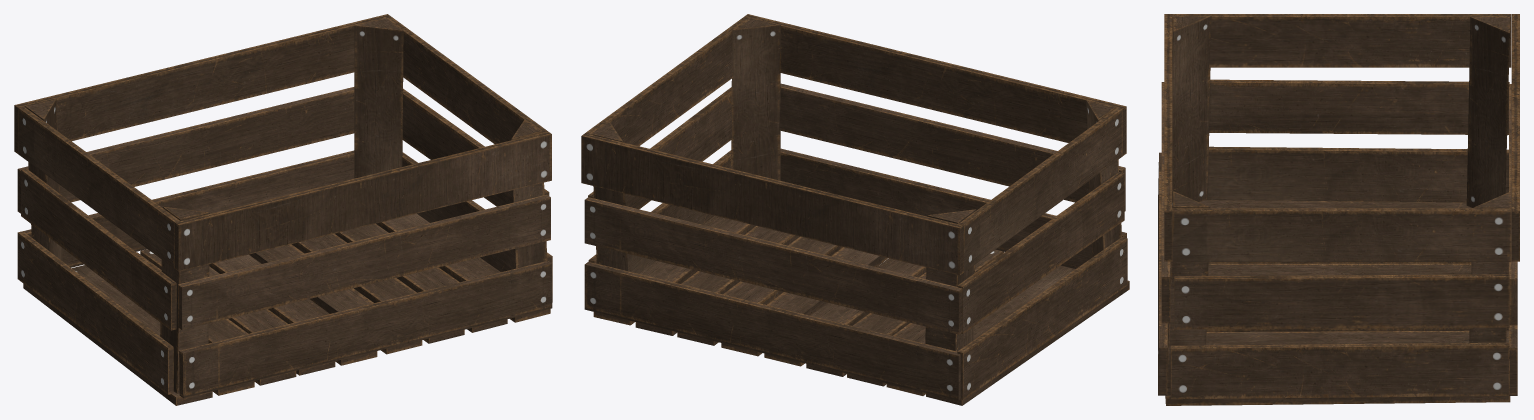
Rendered from wooden_crate_1.gltf.
3 views of the same model, side by side, from view 1: azimuth 30°, elevation 25°; view 2: azimuth 150°, elevation 25°; view 3: azimuth 270°, elevation 25° (orthographic). The views are drawn at different scales.
Visible parts, largest first — view 1: Box_02; view 2: Box_02; view 3: Box_02.
Boxes of the visible parts, x1,y1,x2,y2 form: Box_02: (14,14,552,405); Box_02: (581,14,1129,405); Box_02: (1158,14,1519,405).
Size of the model in its own units: 0.5535 by 0.25 by 0.4184.
1 material, 1 textured.
